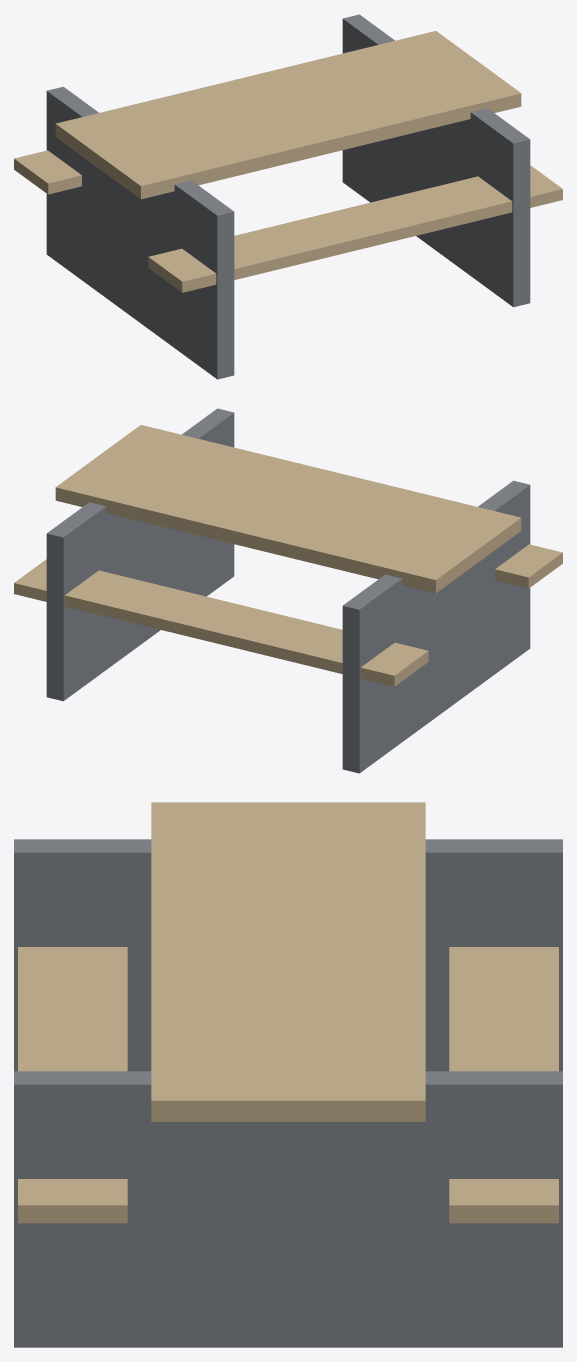
The model's file is PicnicTable.glb.
3 renders of one model, top to bottom at view 1: azimuth 30°, elevation 25°; view 2: azimuth 150°, elevation 25°; view 3: azimuth 270°, elevation 25°, orthographic. The views are drawn at different scales.
Parts seen in each view (by area): view 1: model; view 2: model; view 3: model.
Part boxes in pixels (x1=…): model: x1=14, y1=14, x2=562, y2=379; model: x1=14, y1=408, x2=562, y2=773; model: x1=14, y1=802, x2=562, y2=1347.
Bounding box in the file's own units: 1.8 × 0.77 × 1.4.
